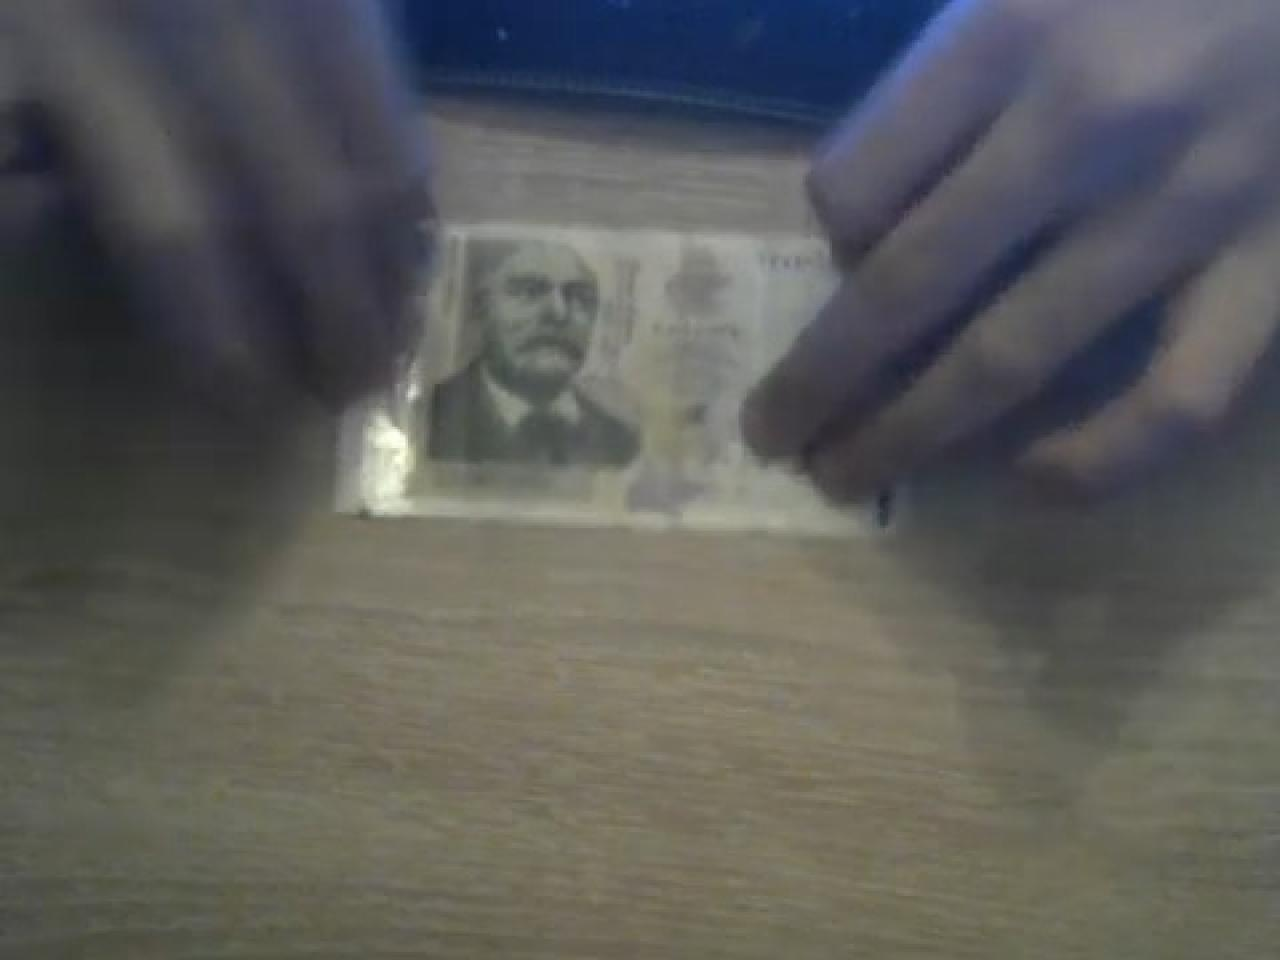10leva: (371, 94, 859, 536)
